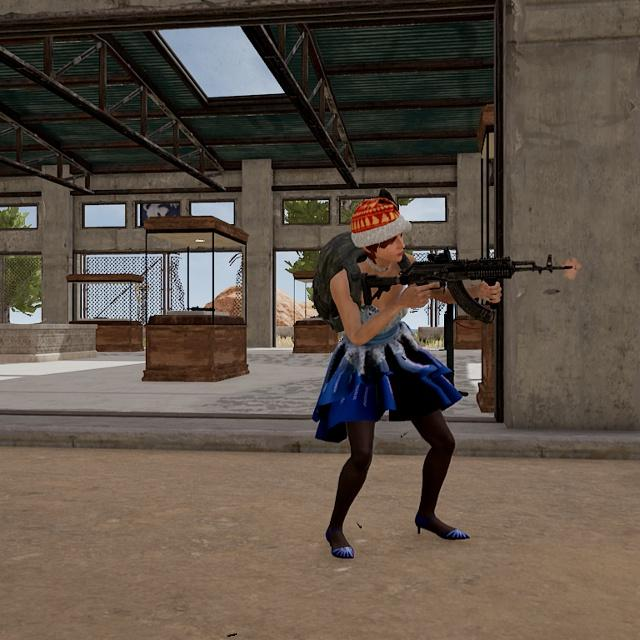head: (349, 188, 415, 269)
people: (312, 184, 478, 565)
